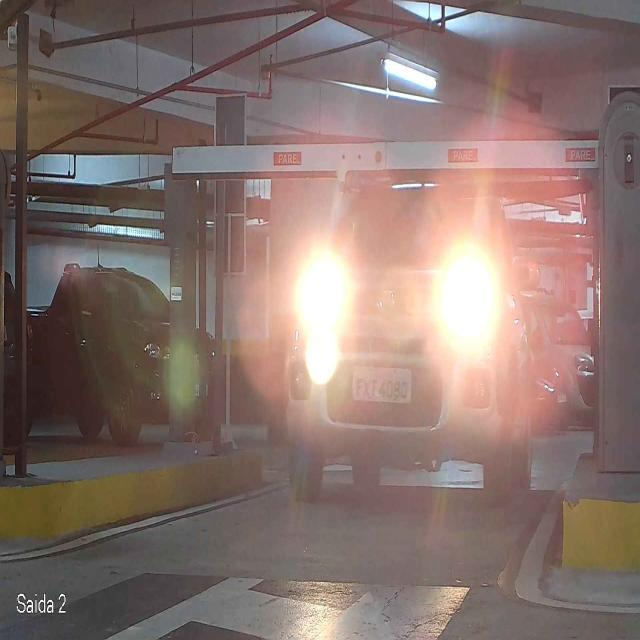old_plate: (348, 365, 415, 405)
